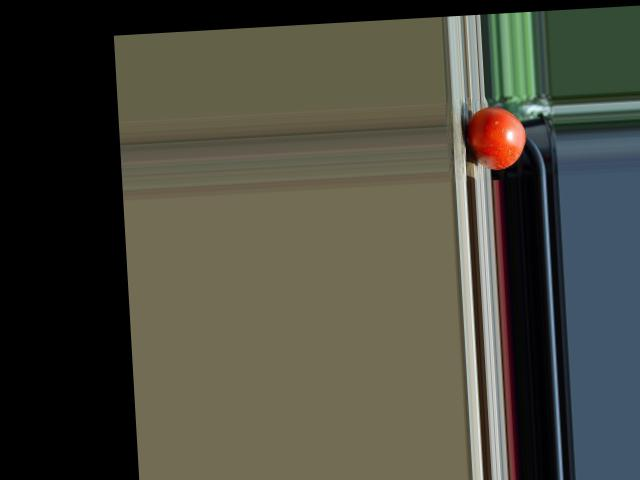tomato: (467, 104, 527, 170)
